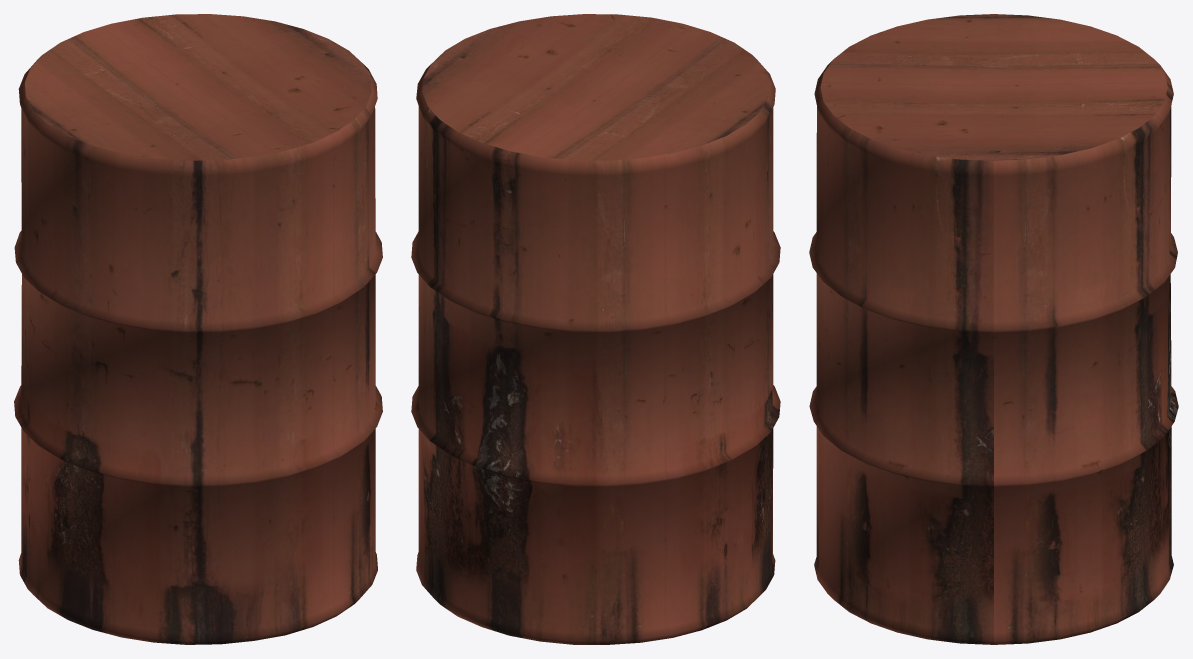
The model's file is varil_boyali.gltf.
3 renders of one model, left to right at view 1: azimuth 30°, elevation 25°; view 2: azimuth 150°, elevation 25°; view 3: azimuth 270°, elevation 25°, orthographic.
Parts seen in each view (by area): view 1: varil_boyali; view 2: varil_boyali; view 3: varil_boyali.
Boxes of the visible parts, x1,y1,x2,y2 form: varil_boyali: (14, 14, 382, 644); varil_boyali: (411, 14, 780, 644); varil_boyali: (809, 14, 1178, 644).
Size of what is drawn, in the model's own units: 0.6088 by 0.88 by 0.609.
1 material, 1 textured.
